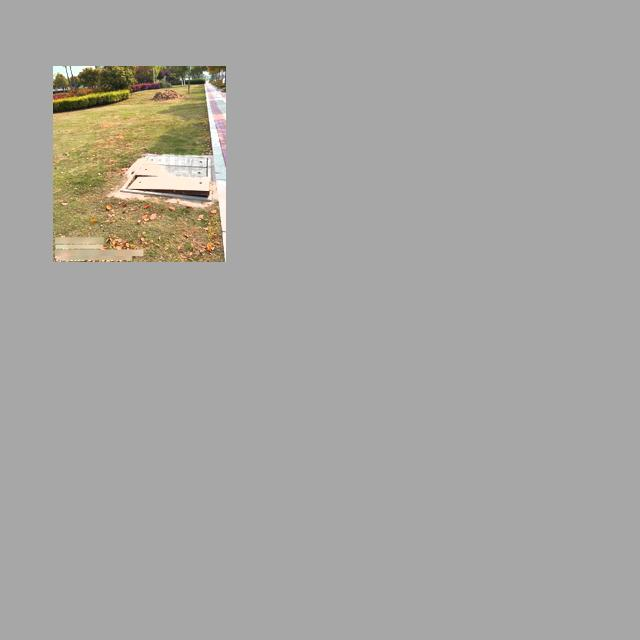uncovered: (118, 153, 213, 200)
